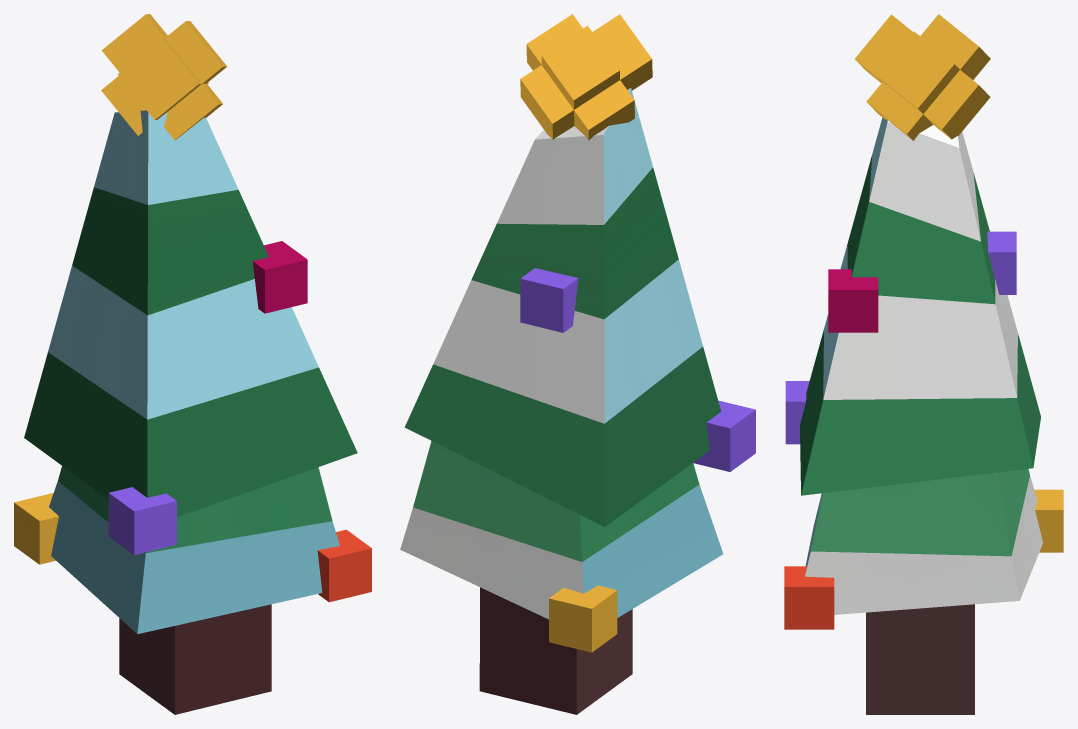
The model's file is xmastree.FBX.
The picture shows the model from 3 angles, left to right: view 1: azimuth 30°, elevation 25°; view 2: azimuth 150°, elevation 25°; view 3: azimuth 270°, elevation 25°; orthographic projection. The views are drawn at different scales.
Parts seen in each view (by area): view 1: xmastree; view 2: xmastree; view 3: xmastree.
Part boxes in pixels (left/top/right/bottom): xmastree: left=14, top=14, right=371, bottom=714; xmastree: left=400, top=14, right=755, bottom=714; xmastree: left=784, top=14, right=1063, bottom=714.
Bounding box in the file's own units: 28.14 × 29.27 × 76.15.
